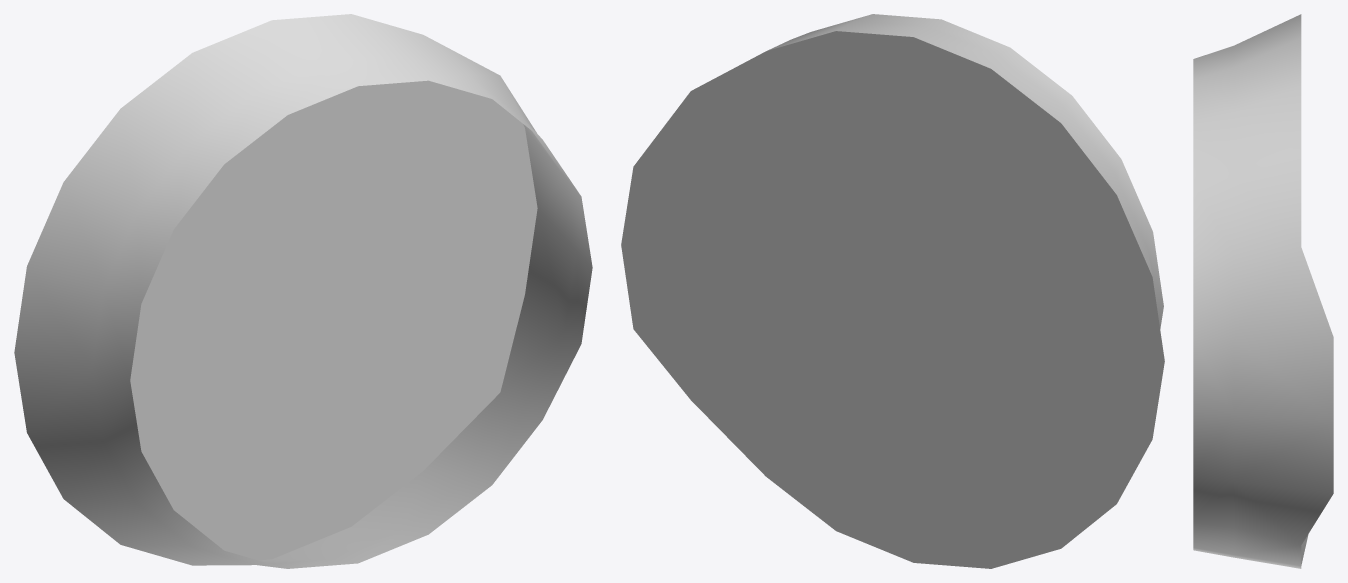
3 renders of one model, left to right at view 1: azimuth 30°, elevation 25°; view 2: azimuth 150°, elevation 25°; view 3: azimuth 270°, elevation 25°, orthographic. The views are drawn at different scales.
Parts seen in each view (by area): view 1: link_base.3obj.001; view 2: link_base.3obj.001; view 3: link_base.3obj.001.
Part boxes in pixels (x1,y1,x2,y2): link_base.3obj.001: (14,14,592,568); link_base.3obj.001: (621,14,1164,568); link_base.3obj.001: (1193,14,1333,568).
Bounding box in the file's own units: 0.2109 × 0.2011 × 0.0504.
Materials: 1 (1 with a texture image).
